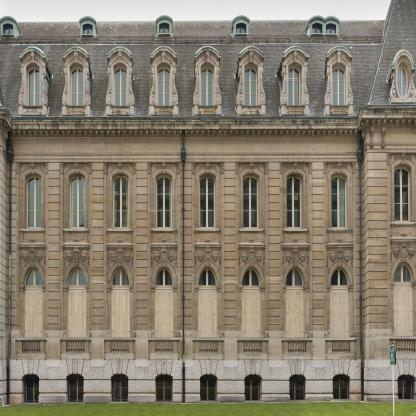Building Outline: (0, 0, 416, 407)
Cornice: (63, 242, 90, 266), (107, 242, 134, 266), (151, 242, 178, 266), (195, 242, 222, 266), (239, 242, 266, 266), (283, 242, 310, 266), (327, 242, 354, 266), (390, 237, 416, 261), (19, 242, 45, 266), (392, 49, 416, 73), (149, 46, 178, 64), (18, 46, 46, 64), (106, 46, 134, 64), (238, 46, 266, 64), (282, 46, 310, 64), (325, 46, 353, 64), (193, 46, 222, 63), (62, 46, 89, 64), (396, 359, 416, 376), (154, 359, 174, 376), (199, 359, 219, 376), (21, 359, 40, 376), (66, 359, 85, 376), (110, 359, 129, 376), (244, 359, 263, 376), (288, 359, 307, 376), (332, 359, 351, 376), (393, 153, 413, 163), (330, 161, 348, 172), (198, 162, 217, 172), (242, 162, 261, 172), (25, 162, 43, 172), (68, 162, 86, 172), (111, 162, 129, 172), (155, 162, 173, 172), (286, 162, 304, 172)
Door: (394, 286, 414, 349), (23, 290, 43, 353), (110, 290, 130, 353), (154, 290, 174, 353), (242, 290, 262, 353), (330, 290, 350, 353), (67, 290, 86, 353), (198, 290, 217, 353), (286, 290, 305, 353)
Facade: (0, 0, 416, 403)
Floor: (0, 258, 416, 403), (0, 137, 416, 252)
Floor Slab: (0, 131, 416, 137), (0, 252, 416, 258)
Molding: (10, 108, 416, 137)
Roof: (0, 0, 416, 119)
Sill: (19, 229, 46, 234), (63, 228, 90, 233), (107, 228, 134, 233), (151, 228, 178, 233), (195, 228, 222, 233), (239, 228, 266, 233), (326, 228, 353, 233), (283, 229, 310, 233), (390, 222, 416, 226)
Top Floor: (0, 23, 416, 130)
Window: (394, 163, 412, 222), (112, 172, 129, 229), (243, 172, 260, 229), (286, 172, 303, 229), (68, 172, 85, 228), (199, 172, 216, 228), (331, 172, 348, 228), (24, 172, 41, 228), (156, 172, 172, 228), (244, 62, 258, 106), (332, 62, 346, 105), (26, 63, 40, 106), (157, 62, 171, 105), (201, 62, 215, 105), (288, 62, 302, 105), (69, 63, 83, 105), (113, 63, 127, 105), (66, 373, 84, 403), (22, 373, 39, 403), (111, 373, 128, 403), (200, 373, 218, 401), (156, 373, 173, 402), (245, 373, 262, 402), (398, 374, 416, 400), (289, 373, 306, 400), (333, 373, 350, 400), (394, 261, 414, 283), (23, 266, 43, 286), (110, 266, 130, 286), (154, 266, 174, 286), (242, 266, 262, 286), (67, 266, 86, 286), (198, 266, 217, 286), (286, 266, 305, 286), (330, 266, 349, 286), (82, 23, 93, 34), (326, 23, 336, 34), (3, 23, 13, 34), (159, 22, 169, 33), (312, 23, 323, 33), (236, 23, 246, 33)
